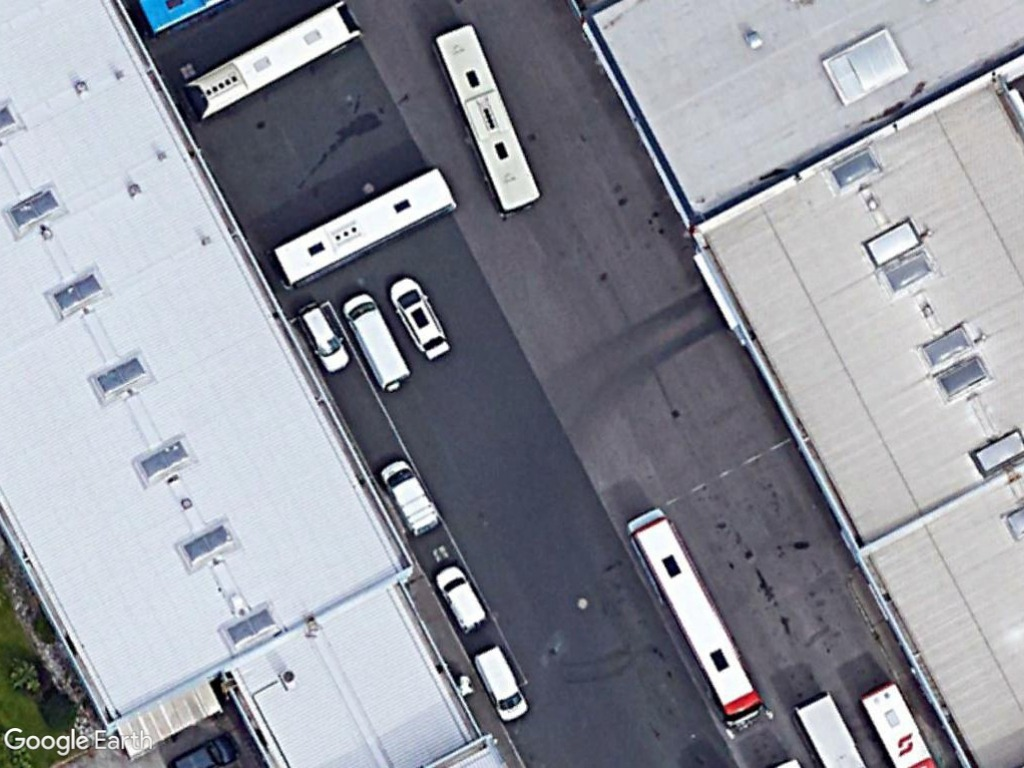bus: (620, 502, 767, 732), (270, 161, 457, 292), (429, 21, 546, 220), (183, 0, 363, 127)
car: (388, 273, 452, 364), (295, 299, 354, 379)
van: (339, 286, 414, 394), (373, 452, 444, 541), (472, 645, 530, 726), (430, 561, 491, 635)
